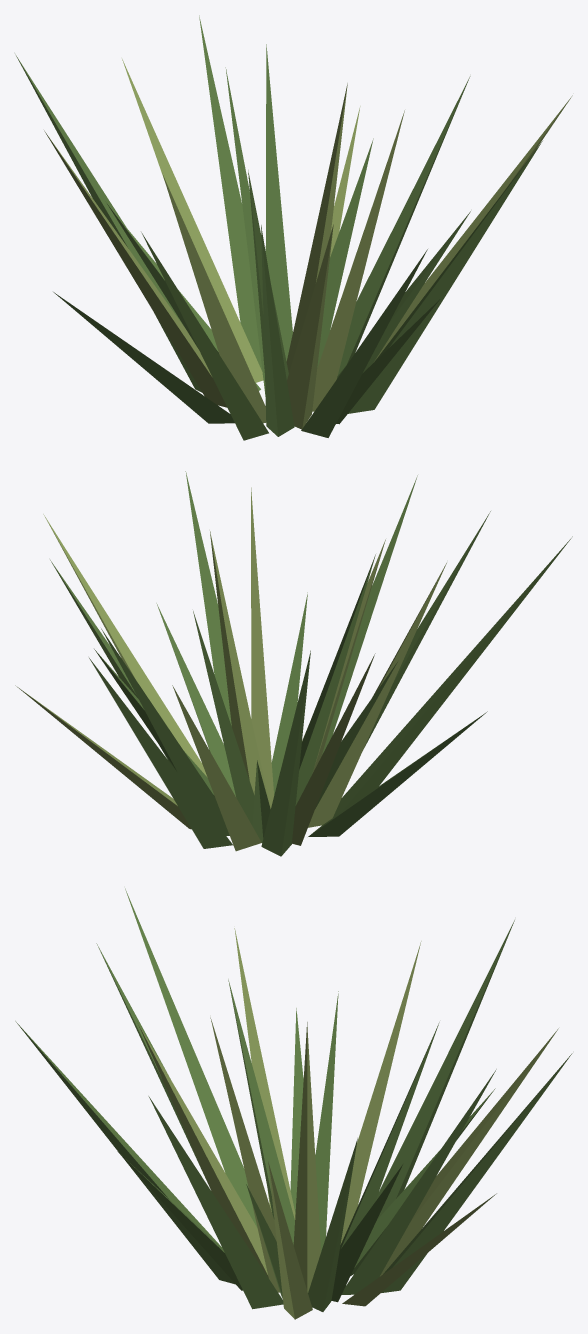
Rendered from grass_tuft.glb.
The picture shows the model from 3 angles, top to bottom: view 1: azimuth 30°, elevation 25°; view 2: azimuth 150°, elevation 25°; view 3: azimuth 270°, elevation 25°; orthographic projection. The views are drawn at different scales.
Visible parts, largest first — view 1: GrassTuft / Grass, GrassTuft / GrassLight; view 2: GrassTuft / Grass, GrassTuft / GrassLight; view 3: GrassTuft / Grass, GrassTuft / GrassLight.
Part boxes in pixels (x1,y1,x2,y2): GrassTuft / Grass: [15, 15, 542, 440]; GrassTuft / GrassLight: [44, 59, 572, 429]; GrassTuft / Grass: [50, 471, 572, 856]; GrassTuft / GrassLight: [15, 487, 446, 851]; GrassTuft / Grass: [15, 888, 572, 1311]; GrassTuft / GrassLight: [137, 928, 558, 1319].
Bounding box in the file's own units: 1.21 × 0.7167 × 1.22.
